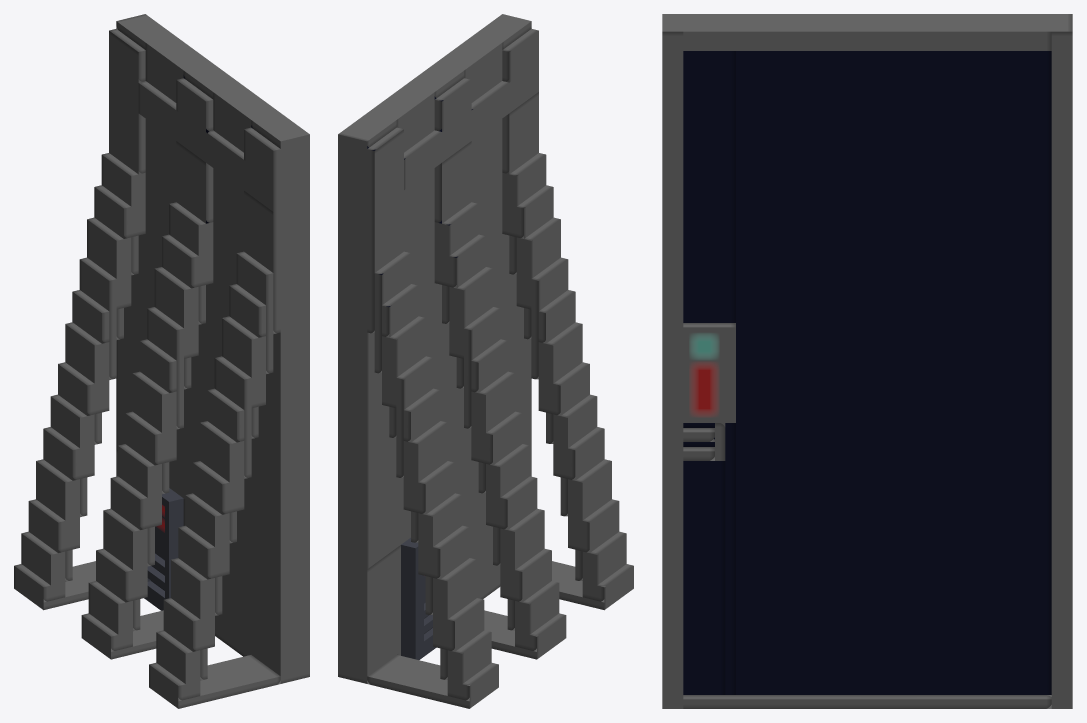
Rendered from lustro.dae.
3 renders of one model, left to right at view 1: azimuth 30°, elevation 25°; view 2: azimuth 150°, elevation 25°; view 3: azimuth 270°, elevation 25°, orthographic. The views are drawn at different scales.
Parts seen in each view (by area): view 1: Content; view 2: Content; view 3: Content.
Boxes of the visible parts, x1,y1,x2,y2 form: Content: (14, 14, 309, 708); Content: (338, 14, 633, 708); Content: (662, 14, 1072, 708).
Bounding box in the file's own units: 18 × 71 × 39.
1 material, 1 textured.
